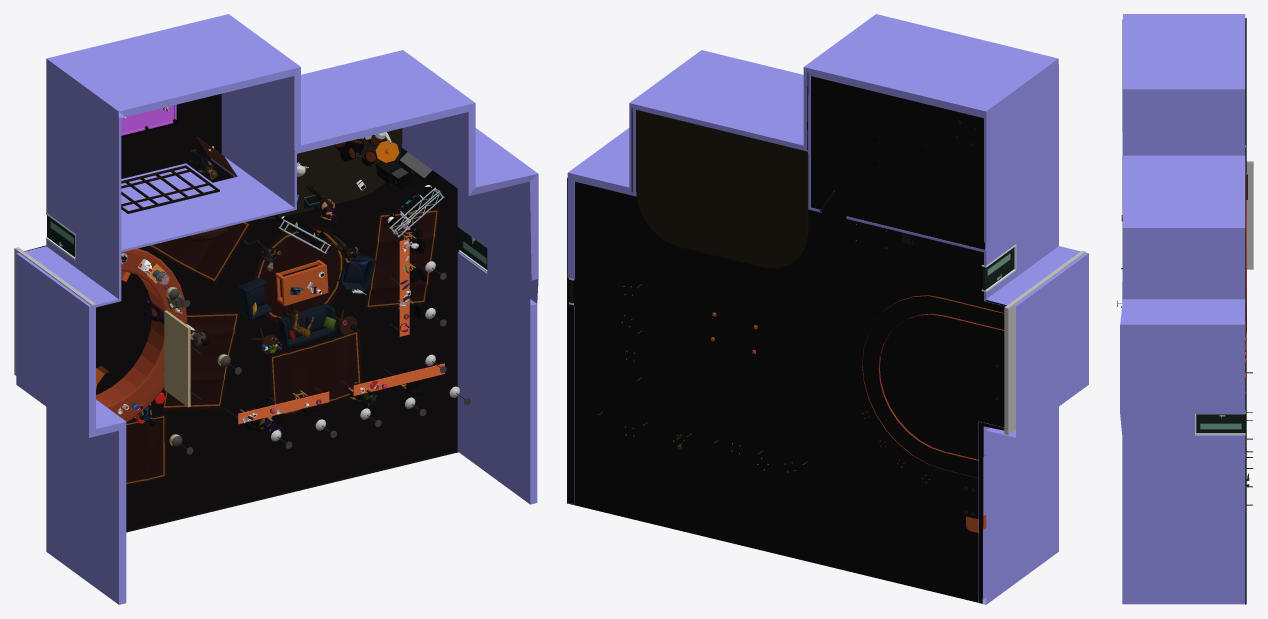
File: coffeeshop.obj
3 views of the same model, side by side, from view 1: azimuth 30°, elevation 25°; view 2: azimuth 150°, elevation 25°; view 3: azimuth 270°, elevation 25° (orthographic). The views are drawn at different scales.
Parts seen in each view (by area): view 1: 3FWalls-col.001, 3FFloor-col, Carpet_1.004, Counter, Cube.002, Carpet_1.003, Carpet_1.001, Carpet_Round, Carpet_1, Carpet_1.002, Cube.001, Windows.006 (+15 smaller); view 2: 3FFloor-col, 3FWalls-col.001, Cube.002, Brick.001, doorwayFront, Counter; view 3: 3FWalls-col.001, doorwayFront.001, Brick.001, 3FFloor-col.
Boxes of the visible parts, bbox=[...] form: 3FWalls-col.001: bbox=[16, 14, 538, 604]; 3FFloor-col: bbox=[24, 93, 459, 532]; Carpet_1.004: bbox=[269, 329, 362, 415]; Counter: bbox=[96, 248, 187, 422]; Cube.002: bbox=[224, 128, 402, 219]; Carpet_1.003: bbox=[365, 207, 439, 309]; Carpet_1.001: bbox=[161, 311, 239, 410]; Carpet_Round: bbox=[254, 225, 345, 322]; Carpet_1: bbox=[147, 221, 251, 283]; Carpet_1.002: bbox=[126, 413, 166, 485]; Cube.001: bbox=[164, 310, 201, 407]; Windows.006: bbox=[121, 165, 219, 213]; 3FFloor-col: bbox=[567, 73, 1006, 603]; 3FWalls-col.001: bbox=[567, 14, 1088, 604]; Cube.002: bbox=[636, 109, 808, 268]; Brick.001: bbox=[1004, 250, 1085, 434]; doorwayFront: bbox=[981, 244, 1016, 292]; Counter: bbox=[862, 295, 1004, 478]; 3FWalls-col.001: bbox=[1120, 14, 1245, 604]; doorwayFront.001: bbox=[1195, 411, 1245, 435]; Brick.001: bbox=[1122, 161, 1253, 269]; 3FFloor-col: bbox=[1245, 18, 1246, 604].
Bounding box in the file's own units: 132 × 139 × 41.13.
